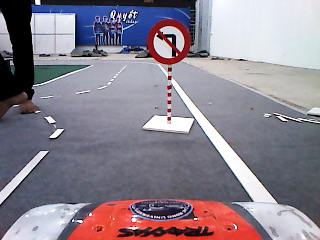ban: (146, 19, 191, 65)
